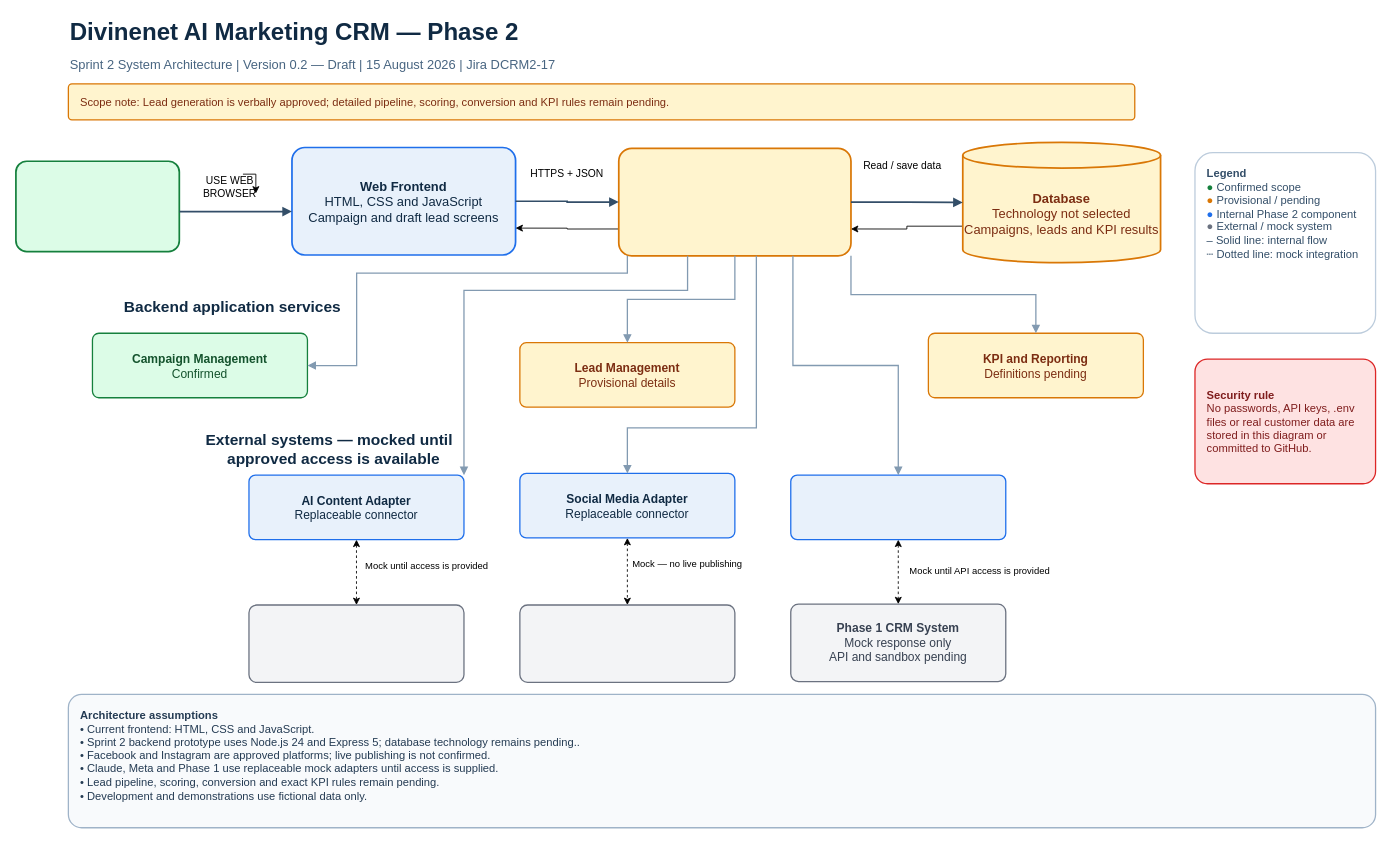
Image size: 1391x843. Some labels were removed from this diagram. The box of each missing label's shape, as (x1, y1, x2, y2) in pixels:
Backend API Node.js 24 + Express 5 Campaign, lead and KPI functions: (617, 147, 851, 256)
Claude AI Mock response only Access and quota pending: (248, 604, 464, 683)
Marketing Team User Uses a web browser: (15, 160, 180, 252)
Meta Platform Facebook + Instagram Mock — no live publishing: (519, 604, 735, 683)
Phase 1 Adapter Replaceable connector: (790, 474, 1006, 540)
